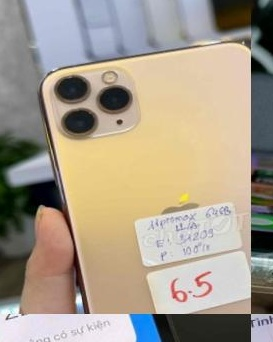screen_defect: (251, 314, 273, 342)
